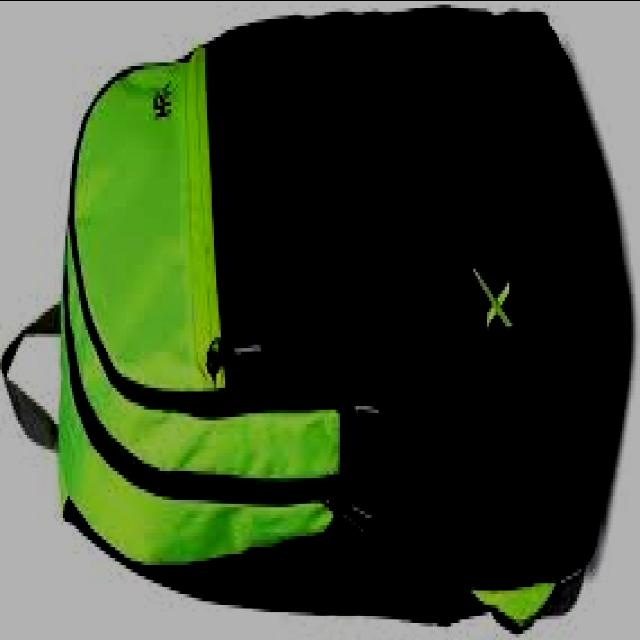backpack: (2, 9, 630, 638)
